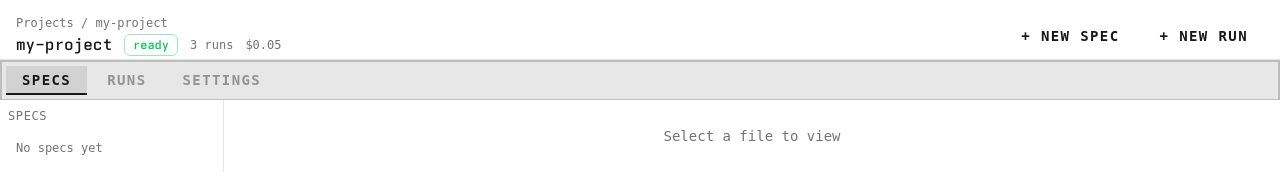
Test: ProjectDetailView › empty run list renders without crash
Click the tab "Runs": coordinates (127, 80) [91,66,162,95]
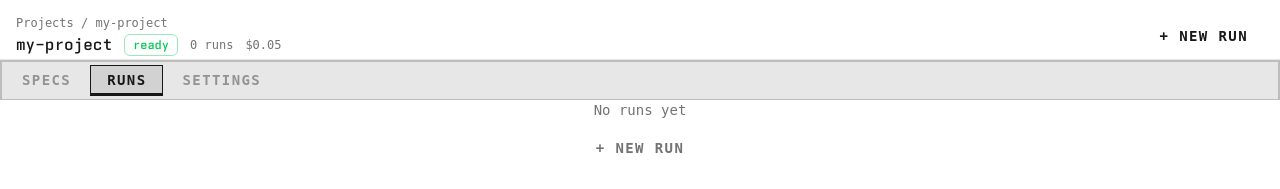
Expected: the text "No runs yet" is shown, [594,100,686,120]
